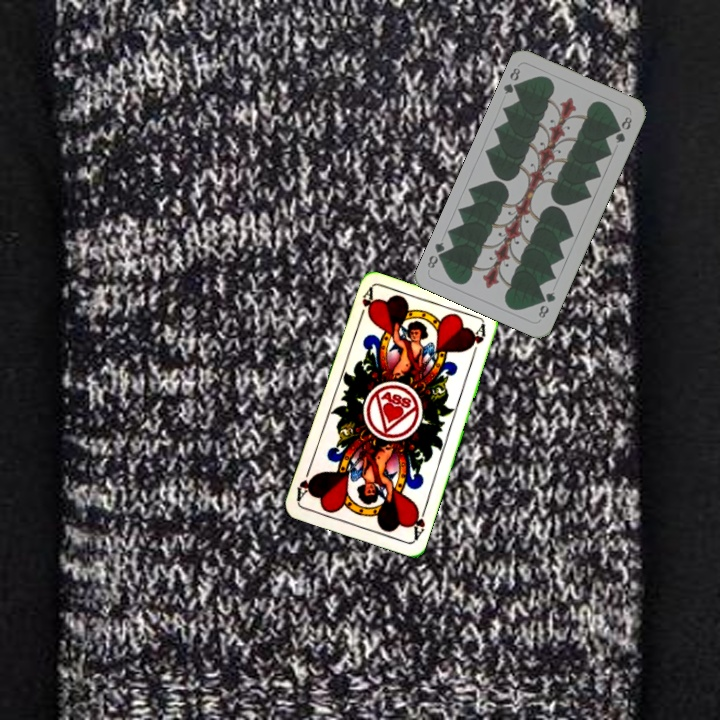G8: (534, 287, 558, 321), (500, 63, 524, 97)
HA: (407, 502, 429, 542), (354, 285, 376, 325)
